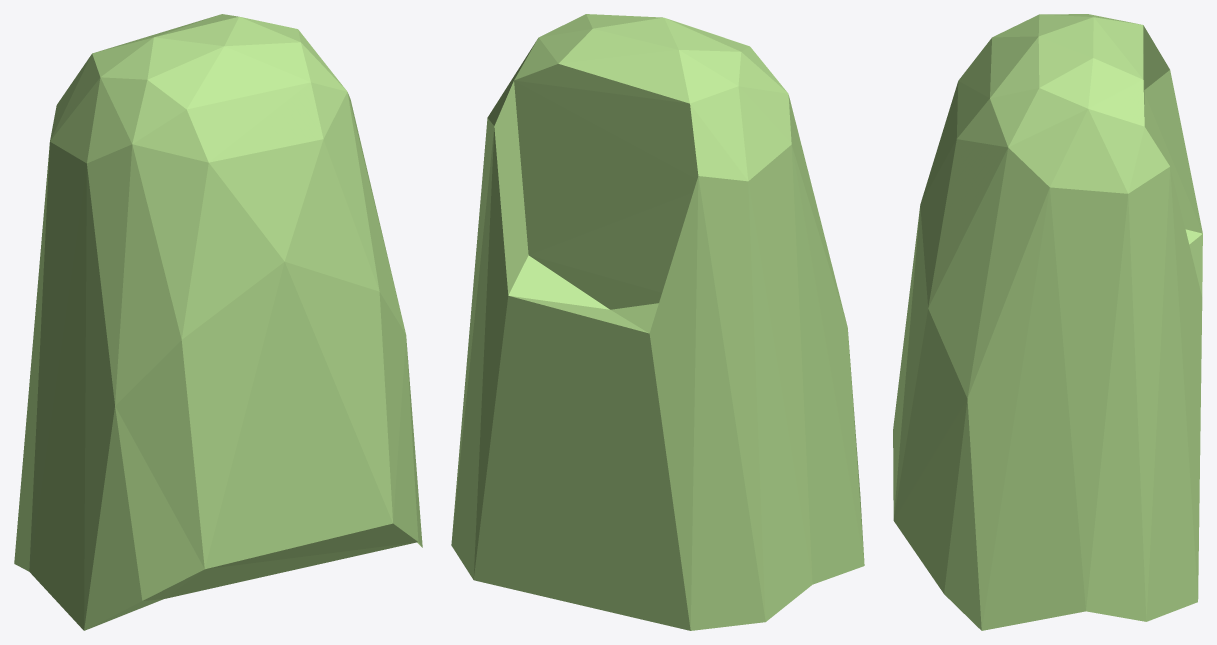
3 renders of one model, left to right at view 1: azimuth 30°, elevation 25°; view 2: azimuth 150°, elevation 25°; view 3: azimuth 270°, elevation 25°, orthographic. The views are drawn at different scales.
Parts seen in each view (by area): view 1: distal; view 2: distal; view 3: distal.
Boxes of the visible parts, bbox=[...] form: distal: bbox=[14, 14, 422, 630]; distal: bbox=[451, 14, 864, 630]; distal: bbox=[893, 14, 1202, 630].
Size of the model in its own units: 18 by 14.37 by 26.31.
